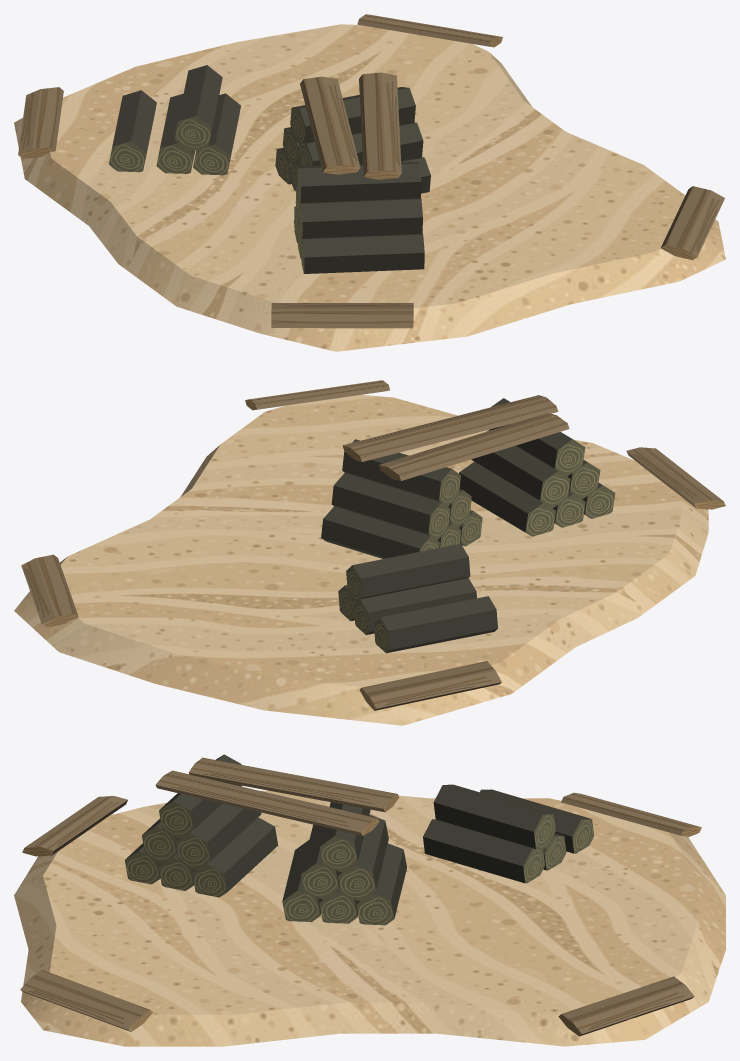
The model's file is building_construction.fbx.
The picture shows the model from 3 angles, top to bottom: view 1: azimuth 30°, elevation 25°; view 2: azimuth 150°, elevation 25°; view 3: azimuth 270°, elevation 25°; orthographic projection. The views are drawn at different scales.
Visible parts, largest first — view 1: tree_log016; view 2: tree_log016; view 3: tree_log016.
Boxes of the visible parts, x1,y1,x2,y2 form: tree_log016: (14, 14, 725, 351); tree_log016: (14, 380, 725, 725); tree_log016: (14, 754, 725, 1046).
Bounding box in the file's own units: 335 × 72.57 × 405.
